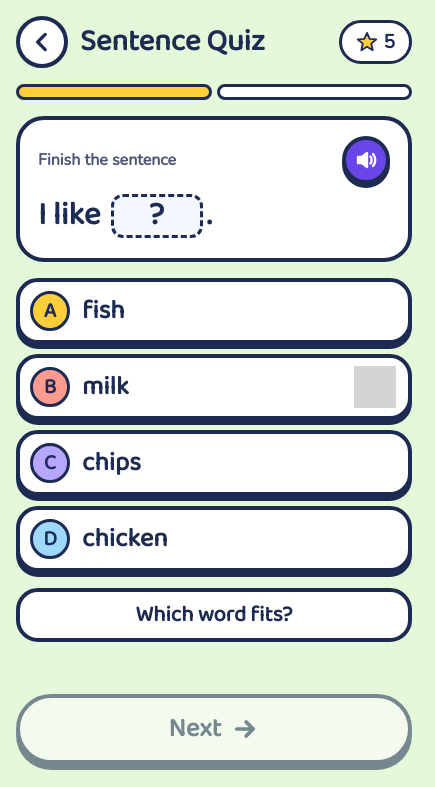
Test: SentencePick screen › fills the blank and enables Next on the right pick
This screenshot has width=435, height=787.
Click the button with aria-label "B: milk": (50,387) [16, 354, 412, 420]
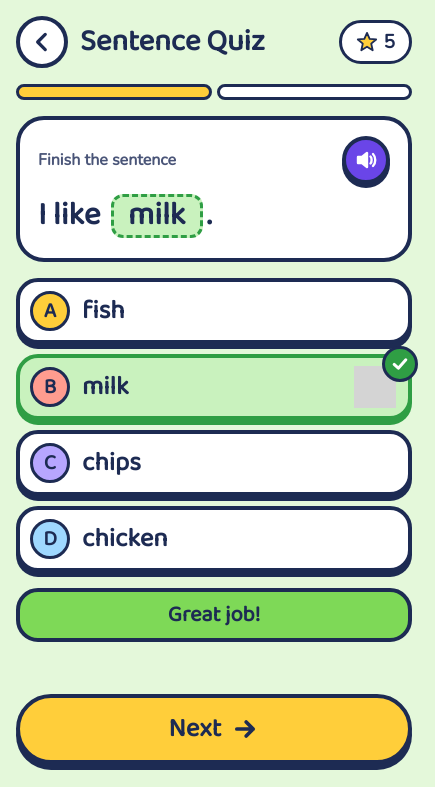
expect the message reads "Great job!": met, box [168, 597, 260, 633]
expect the text with class "sentence-pick__blank" reads "milk": met, box [128, 190, 185, 241]
expect the button "Next" is enabled: met
Click the button "Next": (214,729) [16, 694, 412, 764]
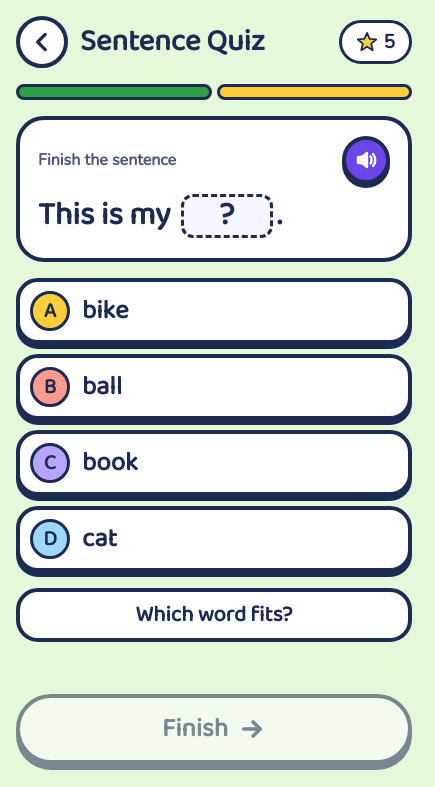
expect the progress indicator named "Question 2 of 2" is shown: met, box [16, 84, 412, 100]
